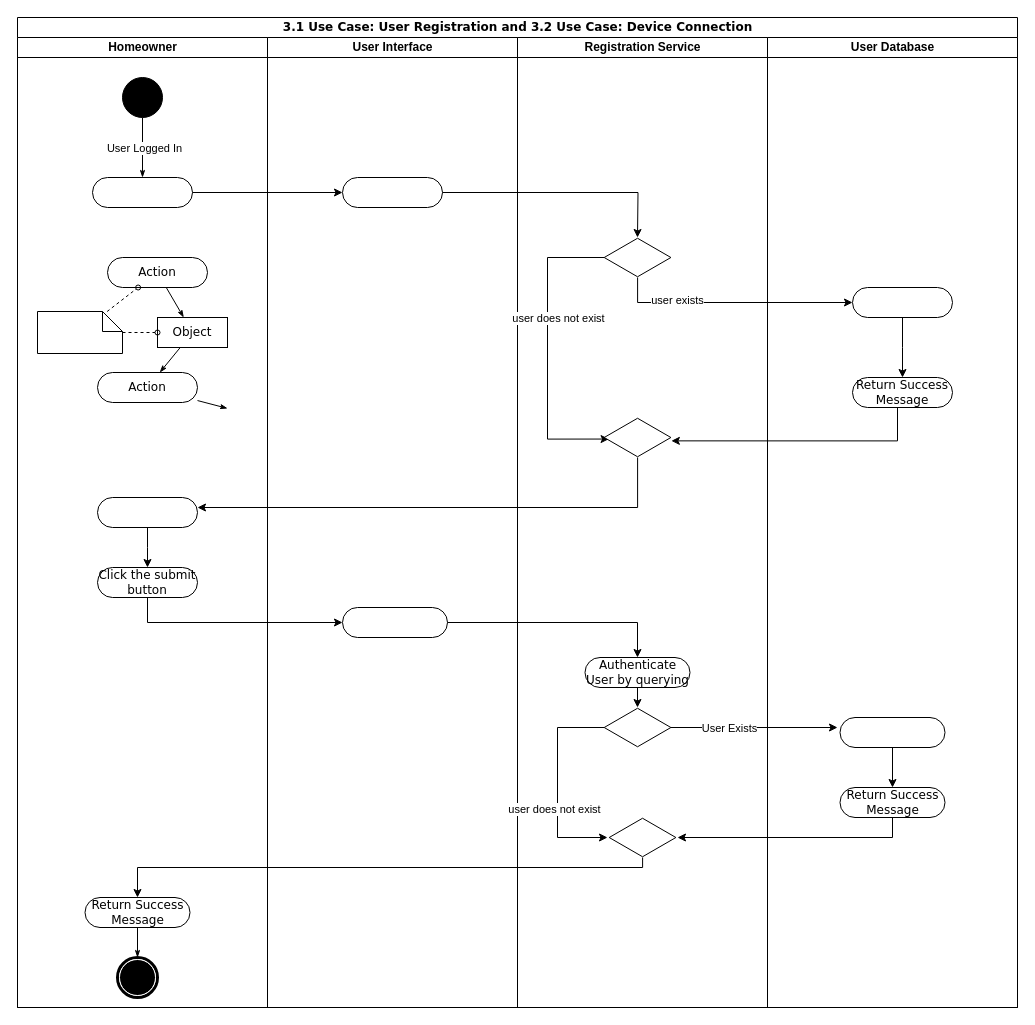
This 1035x1025 diagram has some shape labels left out. The centre of each missing label's shape, as x and y in pixels:
Create a new entry for device: the point at 892,732
Create a new user record: the point at 902,302
Fill out form with device info: the point at 147,512
Note: the point at 79,332
Sign up: the point at 142,192
Signal registration service to add device: the point at 395,622
Signal registration service to add user: the point at 392,192
